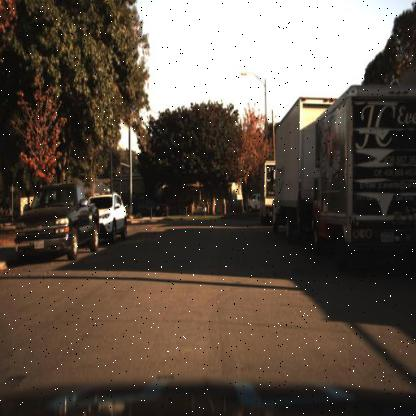car: (308, 82, 414, 260), (6, 180, 99, 274), (12, 180, 98, 268), (86, 188, 127, 244), (94, 193, 130, 243), (260, 158, 282, 231), (247, 190, 266, 216), (244, 188, 262, 212)
truck: (310, 77, 415, 271), (272, 97, 328, 246), (272, 92, 312, 256), (261, 160, 276, 221)
